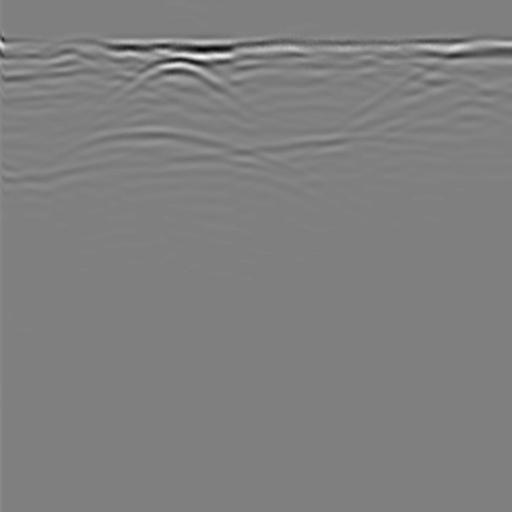hyperbola: (13, 112, 310, 223)
